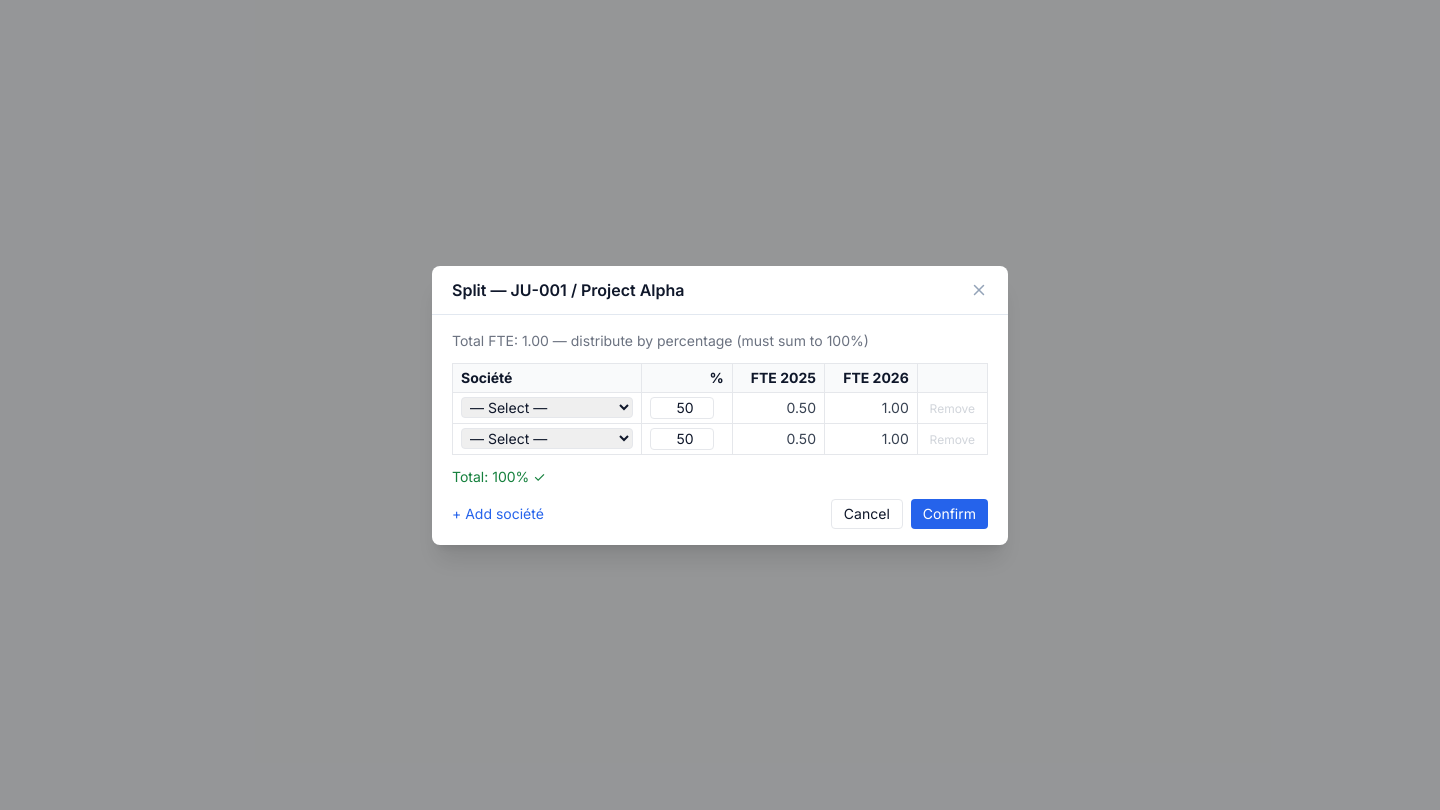
Test: SplitModal › Confirm enabled when percentages sum to 100
The width and height of the screenshot is (1440, 810).
Replace the text in the 1st number field with "40" at (682, 408), box [650, 396, 714, 418]
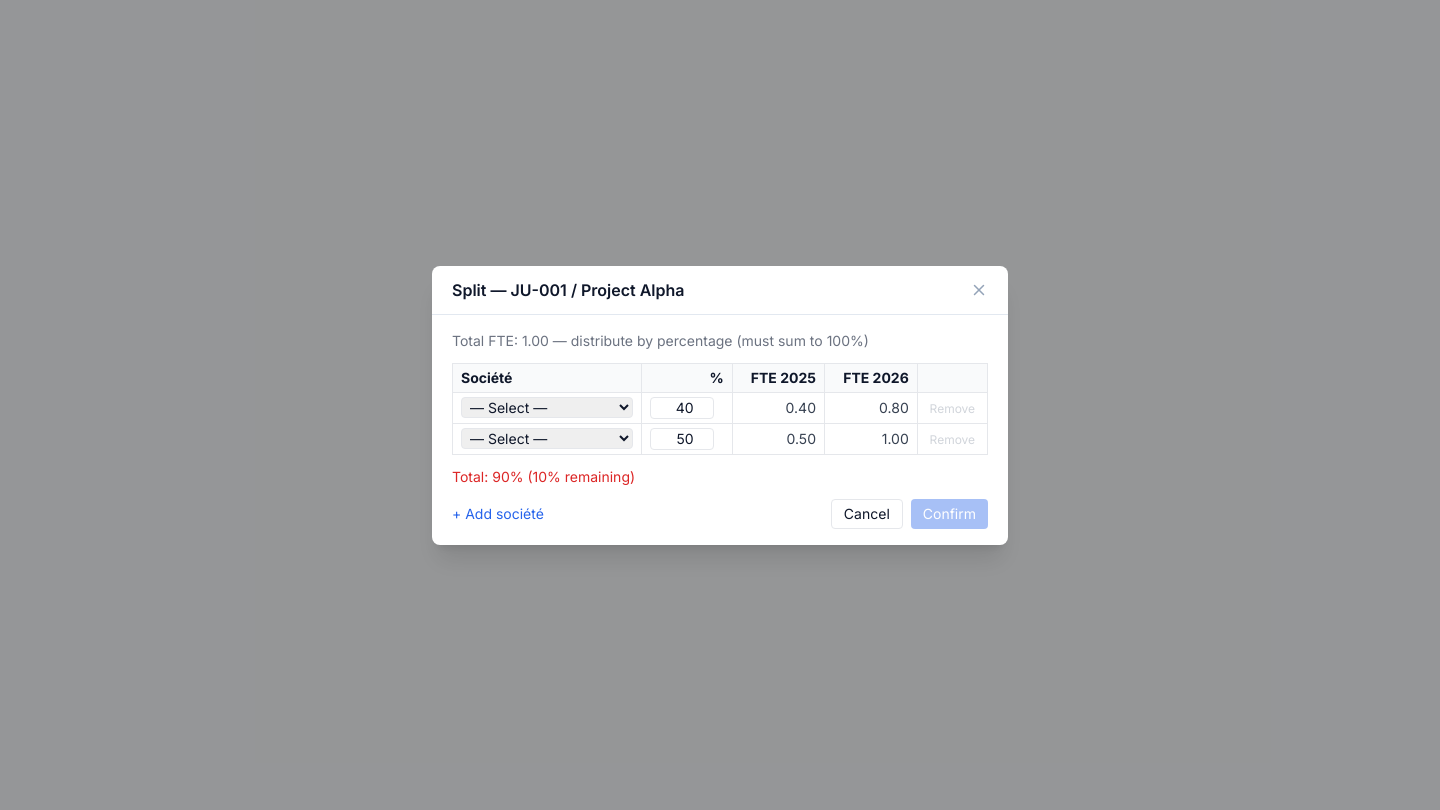
Replace the text in the number field next to "0.50" with "60" at (682, 438), box [650, 428, 714, 450]
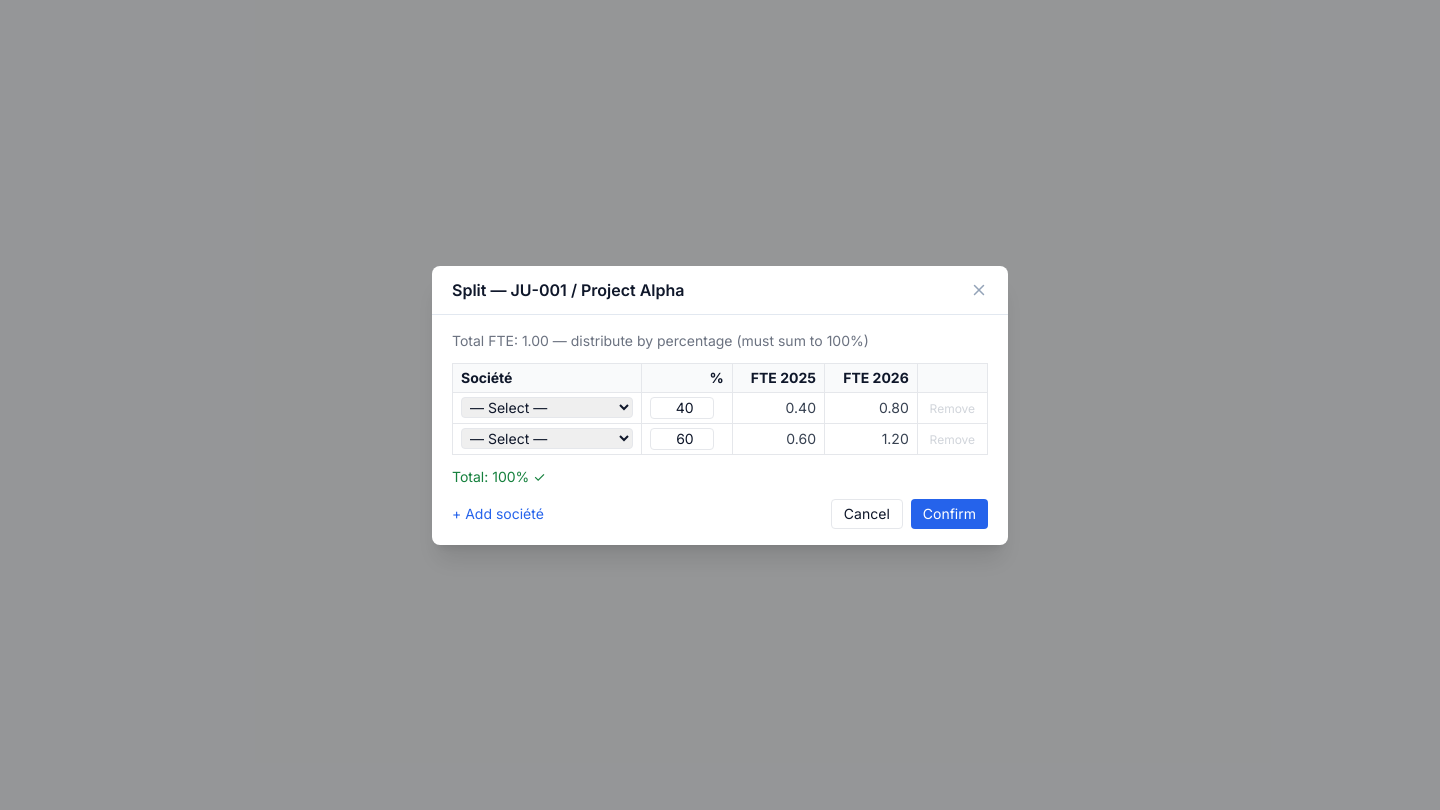
Check: the button "Confirm" is enabled, box [911, 498, 988, 528]
